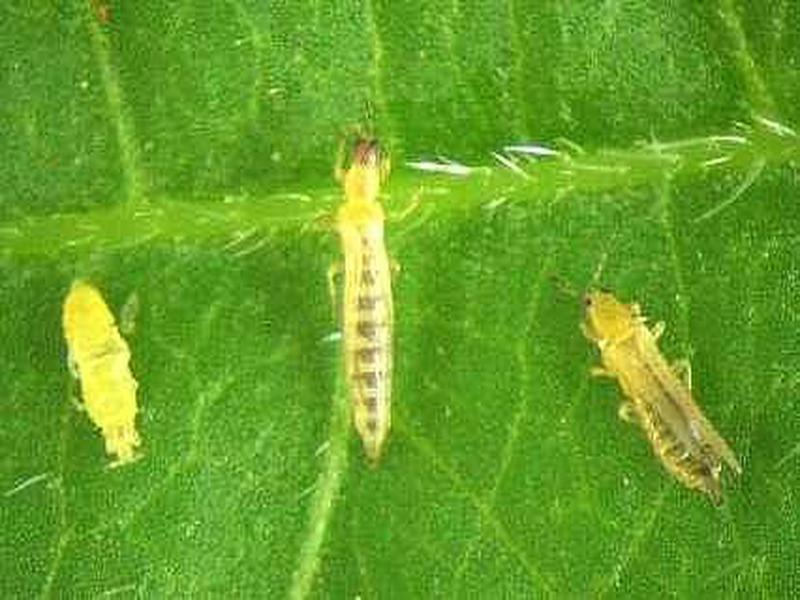Thrips: (559, 258, 750, 506), (302, 124, 434, 469), (40, 272, 178, 486)
